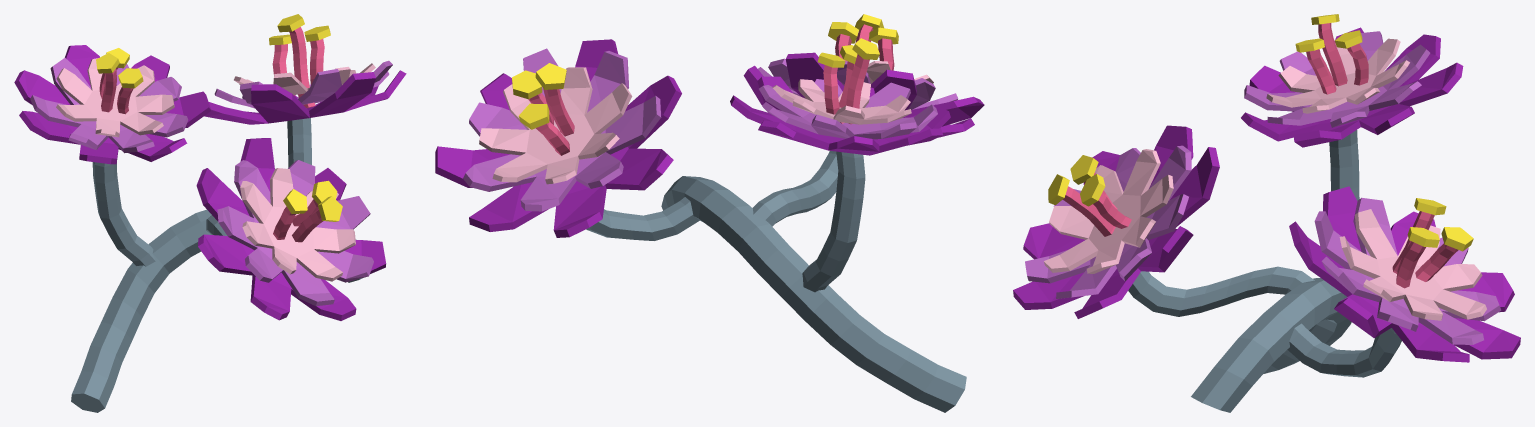
Rendered from purple_flower_plant.glb.
3 views of the same model, side by side, from view 1: azimuth 30°, elevation 25°; view 2: azimuth 150°, elevation 25°; view 3: azimuth 270°, elevation 25° (orthographic). The views are drawn at different scales.
Visible parts, largest first — view 1: group1357601000, group1815625398, group378661738, group1424494965, group1585291562, group1219471486, group1017056303, group871195700, group1765898171, group889028942, group1567947214, group809205445 (+1 smaller); view 2: group1815625398, group378661738, group1357601000, group1017056303, group1424494965, group871195700, group758299907, group1585291562; view 3: group1815625398, group1357601000, group1424494965, group378661738, group1219471486, group1585291562, group758299907, group871195700, group1017056303, group889028942, group1015894474, group809205445 (+2 smaller).
Boxes of the visible parts, bbox=[...] form: group1357601000: bbox=[14, 45, 211, 164]; group1815625398: bbox=[204, 14, 406, 124]; group378661738: bbox=[71, 209, 362, 412]; group1424494965: bbox=[196, 138, 386, 320]; group1585291562: bbox=[217, 160, 373, 306]; group1219471486: bbox=[240, 168, 355, 281]; group1017056303: bbox=[92, 162, 155, 266]; group871195700: bbox=[287, 118, 311, 167]; group1765898171: bbox=[318, 196, 342, 221]; group889028942: bbox=[292, 209, 323, 242]; group1567947214: bbox=[283, 189, 307, 213]; group809205445: bbox=[312, 180, 337, 204]; group1815625398: bbox=[435, 39, 681, 237]; group378661738: bbox=[661, 176, 966, 412]; group1357601000: bbox=[730, 38, 950, 155]; group1017056303: bbox=[802, 151, 865, 292]; group1424494965: bbox=[743, 52, 984, 137]; group871195700: bbox=[586, 197, 699, 240]; group758299907: bbox=[753, 151, 838, 226]; group1585291562: bbox=[758, 58, 958, 109]; group1815625398: bbox=[1289, 186, 1520, 362]; group1357601000: bbox=[1241, 14, 1463, 147]; group1424494965: bbox=[1013, 125, 1219, 318]; group378661738: bbox=[1191, 278, 1351, 412]; group1219471486: bbox=[1043, 149, 1173, 273]; group1585291562: bbox=[1025, 145, 1191, 298]; group758299907: bbox=[1128, 266, 1314, 316]; group871195700: bbox=[1287, 323, 1401, 377]; group1017056303: bbox=[1329, 130, 1359, 200]; group889028942: bbox=[1062, 186, 1115, 236]; group1015894474: bbox=[1093, 193, 1131, 228]; group809205445: bbox=[1080, 174, 1105, 206].
Size of the model in its own units: 0.3674 by 0.2892 by 0.3458.
